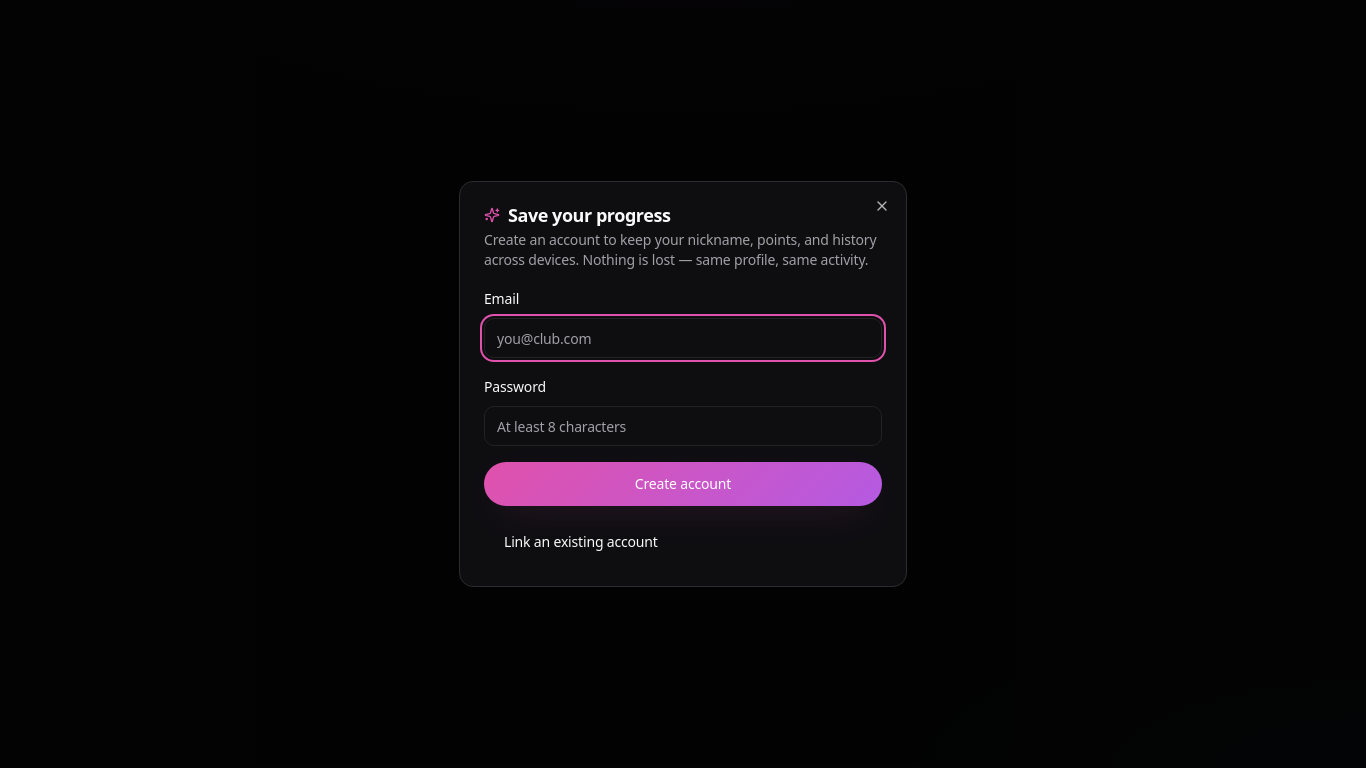
Test: guest signup reports confirmation state accurately (immediate claim false) and binds intent email
Type "guest@example.test" into the field labelled "Email" at point(683, 338), box 484,318 -> 882,358
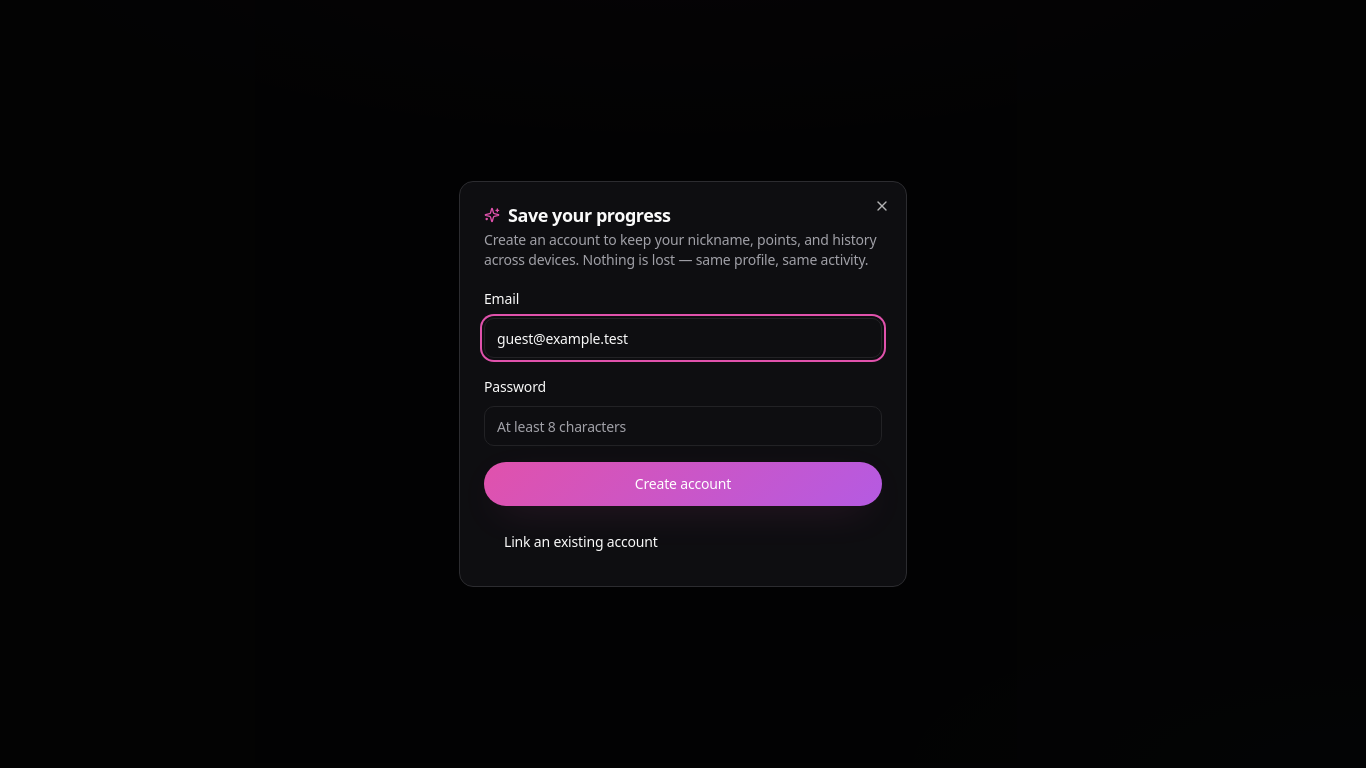
Type "SafePassword123!" into the password field labelled "Password" at point(683, 426), box 484,406 -> 882,446
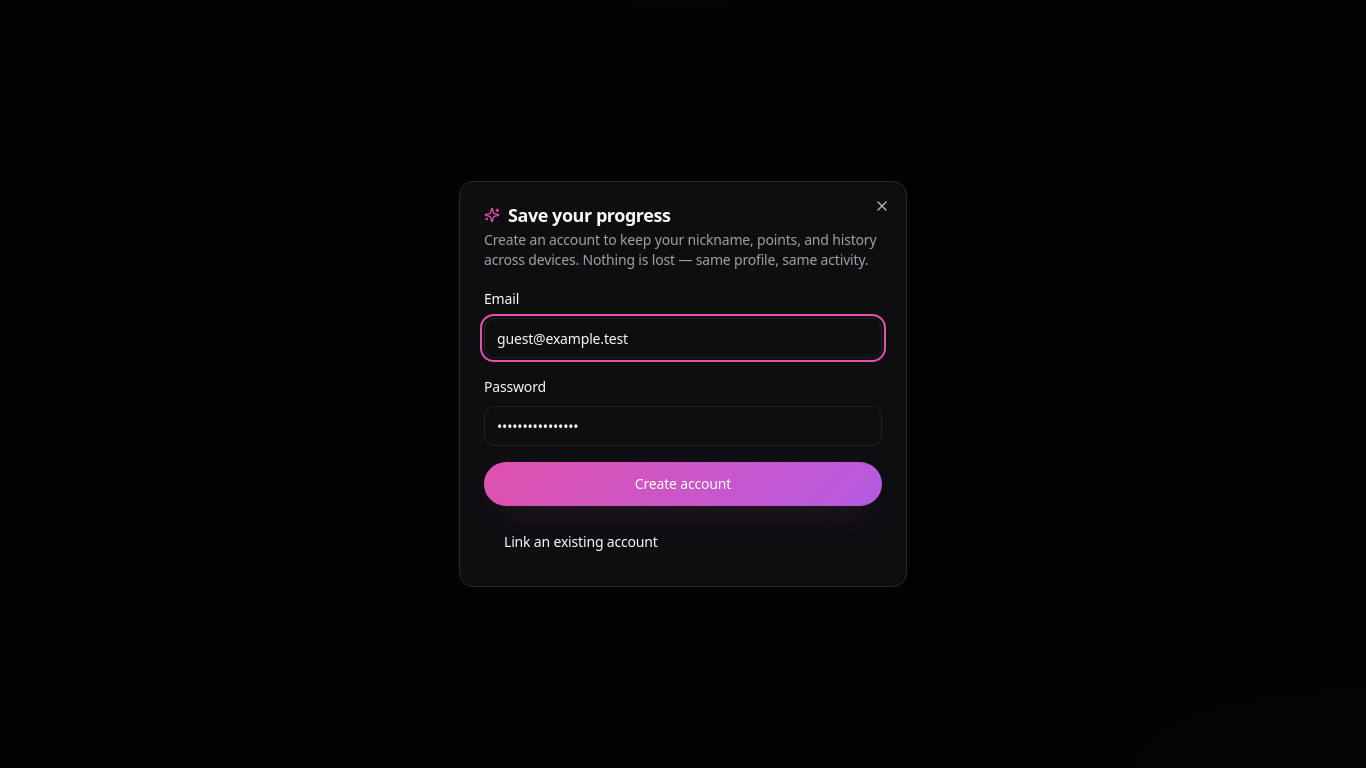
Click the button "Create account" at point(683, 484), box 484,462 -> 882,506
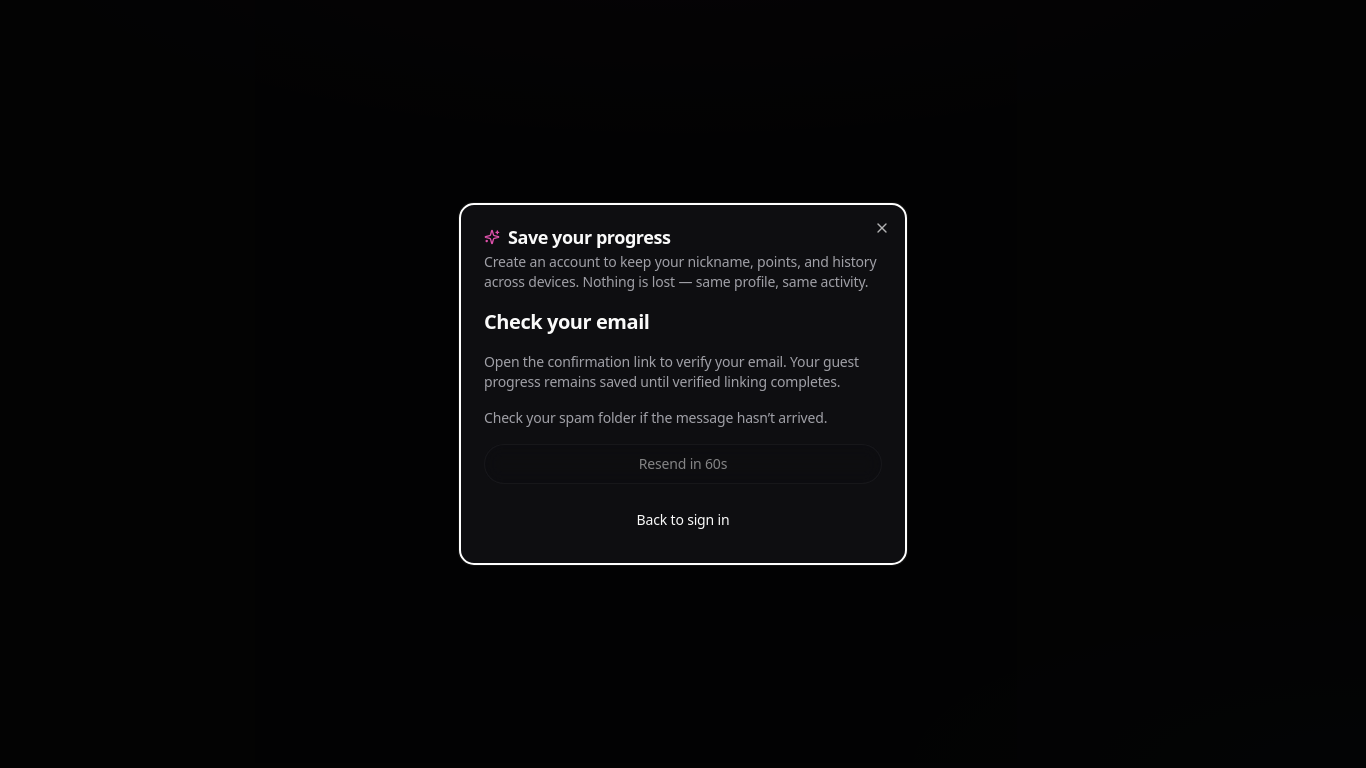
Now the element named "Email confirmation" is shown, box 484,308 -> 882,540
Now the button "Resend in 60s" is disabled, box 484,444 -> 882,484
